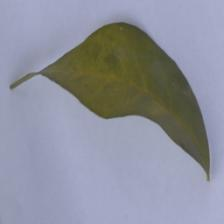greening: (17, 15, 142, 123)
